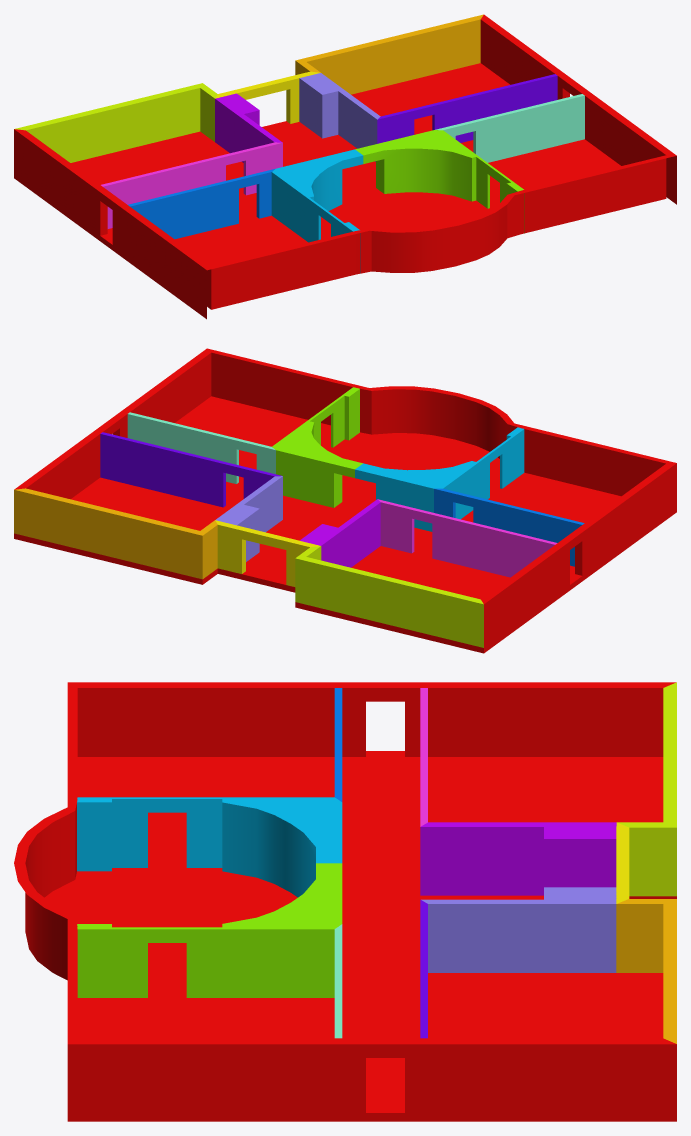
The model's file is WhiteHouse_FBX.fbx.
3 renders of one model, top to bottom at view 1: azimuth 30°, elevation 25°; view 2: azimuth 150°, elevation 25°; view 3: azimuth 270°, elevation 25°, orthographic. The views are drawn at different scales.
Parts seen in each view (by area): view 1: Base__Flooring_Exteriors, Front_Exterior_Room_D, Front_Exterior_Room_C, Room_A_Oval_Office_Wall_Vertical, Room_A_Wall_Horizontal, Room_B_Oval_Office_Wall_Vertical, Room_B_Wall_Horizontal, Room_C_Wall_Horizontal, Room_D_Wall_Horizontal, Room_C_Corridor_Wall_Vertical, Room_D_Corridor_Wall_Vertical, Front_Exterior_Corridor; view 2: Base__Flooring_Exteriors, Front_Exterior_Room_C, Front_Exterior_Room_D, Room_C_Wall_Horizontal, Room_D_Wall_Horizontal, Room_A_Oval_Office_Wall_Vertical, Room_B_Oval_Office_Wall_Vertical, Room_A_Wall_Horizontal, Room_B_Wall_Horizontal, Room_D_Corridor_Wall_Vertical, Front_Exterior_Corridor, Room_C_Corridor_Wall_Vertical; view 3: Base__Flooring_Exteriors, Room_A_Oval_Office_Wall_Vertical, Room_B_Oval_Office_Wall_Vertical, Room_C_Corridor_Wall_Vertical, Room_D_Corridor_Wall_Vertical, Front_Exterior_Room_D, Front_Exterior_Room_C, Room_C_Wall_Horizontal, Room_D_Wall_Horizontal, Front_Exterior_Corridor, Room_A_Wall_Horizontal, Room_B_Wall_Horizontal.
Part boxes in pixels (x1,y1,x2,y2): Base__Flooring_Exteriors: (14, 14, 676, 319); Front_Exterior_Room_D: (15, 83, 217, 162); Front_Exterior_Room_C: (295, 14, 483, 94); Room_A_Oval_Office_Wall_Vertical: (355, 130, 524, 233); Room_A_Wall_Horizontal: (435, 94, 584, 162); Room_B_Oval_Office_Wall_Vertical: (271, 149, 363, 273); Room_B_Wall_Horizontal: (128, 169, 274, 239); Room_C_Wall_Horizontal: (377, 74, 557, 143); Room_D_Wall_Horizontal: (101, 142, 282, 228); Room_C_Corridor_Wall_Vertical: (299, 73, 380, 161); Room_D_Corridor_Wall_Vertical: (215, 93, 282, 162); Front_Exterior_Corridor: (215, 71, 320, 123); Base__Flooring_Exteriors: (14, 348, 676, 653); Front_Exterior_Room_C: (14, 488, 217, 579); Front_Exterior_Room_D: (295, 546, 483, 647); Room_C_Wall_Horizontal: (100, 432, 281, 507); Room_D_Wall_Horizontal: (378, 499, 557, 577); Room_A_Oval_Office_Wall_Vertical: (272, 387, 362, 507); Room_B_Oval_Office_Wall_Vertical: (355, 427, 524, 531); Room_A_Wall_Horizontal: (127, 412, 275, 483); Room_B_Wall_Horizontal: (434, 488, 584, 566); Room_D_Corridor_Wall_Vertical: (300, 499, 380, 567); Front_Exterior_Corridor: (215, 520, 319, 586); Room_C_Corridor_Wall_Vertical: (215, 476, 282, 561); Base__Flooring_Exteriors: (14, 682, 676, 1121); Room_A_Oval_Office_Wall_Vertical: (77, 863, 342, 997); Room_B_Oval_Office_Wall_Vertical: (77, 797, 342, 897); Room_C_Corridor_Wall_Vertical: (421, 887, 616, 972); Room_D_Corridor_Wall_Vertical: (420, 822, 616, 895); Front_Exterior_Room_D: (617, 682, 676, 896); Front_Exterior_Room_C: (616, 899, 676, 1043); Room_C_Wall_Horizontal: (420, 899, 427, 1038); Room_D_Wall_Horizontal: (420, 688, 427, 826); Front_Exterior_Corridor: (616, 822, 629, 903); Room_A_Wall_Horizontal: (334, 924, 342, 1038); Room_B_Wall_Horizontal: (334, 688, 342, 801).
Size of the model in its own units: 11.27 by 1.13 by 8.72.
